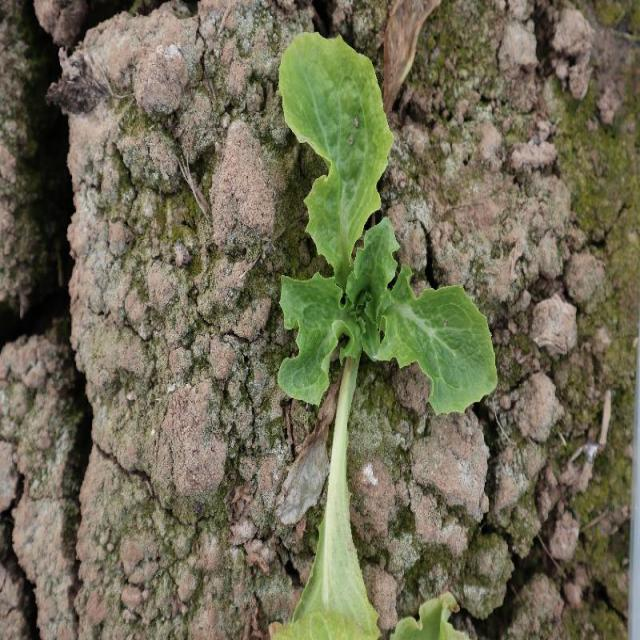crop: (277, 31, 500, 417)
